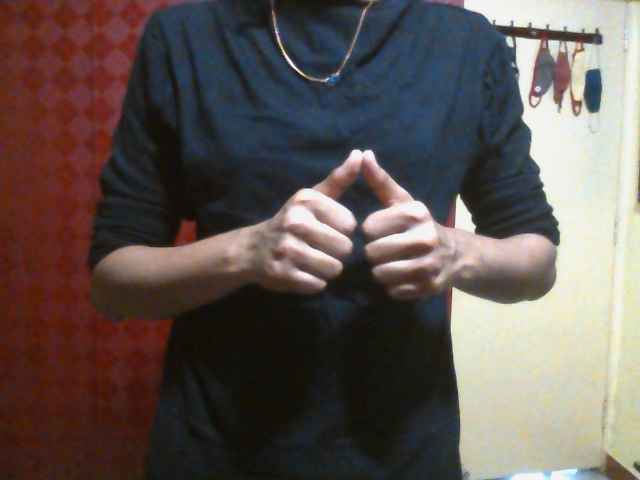A: (254, 149, 456, 303)
